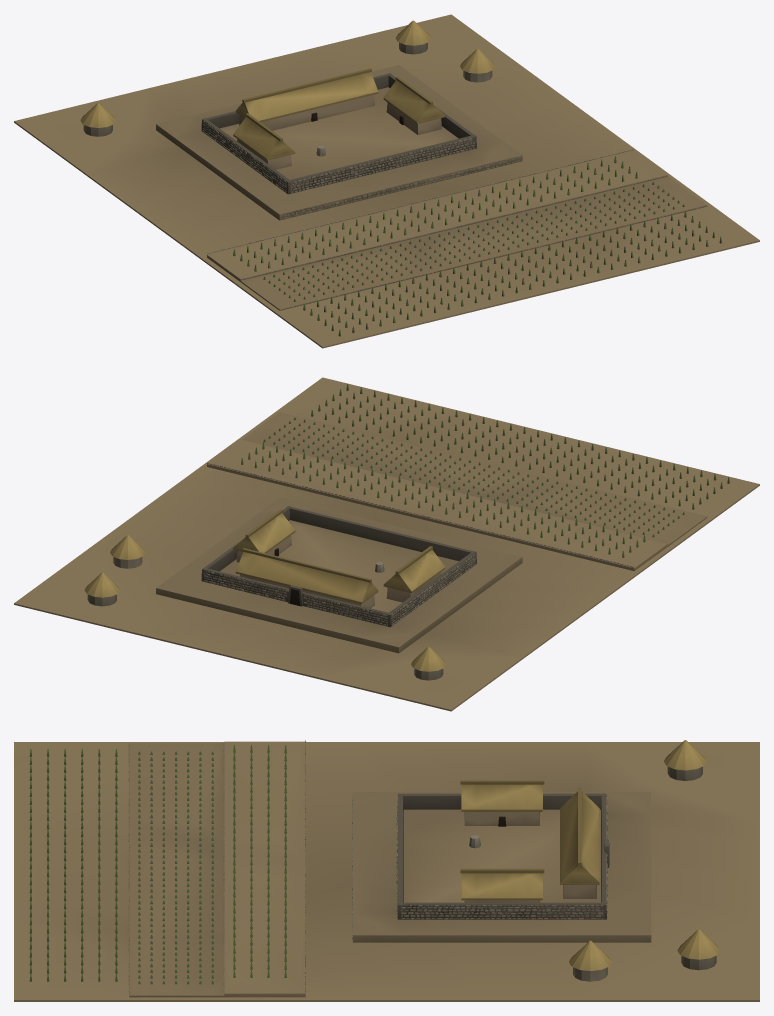
File: inticancha.glb
3 renders of one model, top to bottom at view 1: azimuth 30°, elevation 25°; view 2: azimuth 150°, elevation 25°; view 3: azimuth 270°, elevation 25°, orthographic. The views are drawn at different scales.
Visible parts, largest first — view 1: p0_ground, p1_walls, p2_roofs; view 2: p0_ground, p1_walls, p2_roofs; view 3: p0_ground, p1_walls, p2_roofs.
Boxes of the visible parts, box(x1,y1,x2,y2) form: p0_ground: box(14, 14, 759, 348); p1_walls: box(83, 42, 721, 336); p2_roofs: box(80, 20, 495, 160); p0_ground: box(14, 377, 759, 711); p1_walls: box(87, 384, 729, 680); p2_roofs: box(84, 509, 446, 671); p0_ground: box(14, 740, 759, 1001); p1_walls: box(29, 744, 716, 984); p2_roofs: box(460, 740, 720, 970).
Bounding box in the file's own units: 90 × 7.75 × 110.
